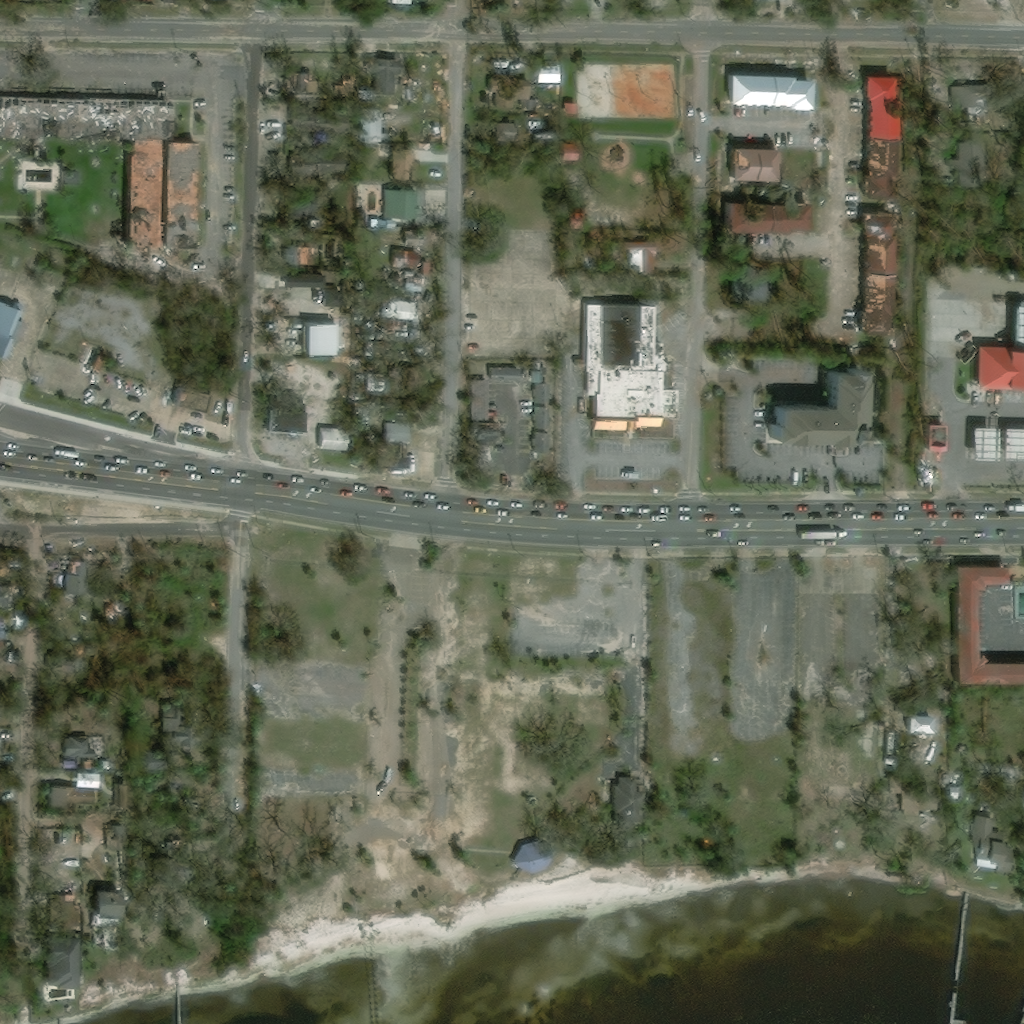major_damage: (0, 97, 173, 140)
minor_damage: (574, 304, 678, 429), (859, 209, 898, 337), (865, 74, 900, 198), (161, 136, 198, 247), (124, 138, 162, 246), (154, 380, 211, 415), (731, 145, 787, 177), (265, 401, 307, 435), (57, 559, 87, 595), (386, 296, 417, 320), (81, 345, 102, 371), (286, 247, 312, 264), (0, 584, 11, 607), (406, 251, 417, 268)
no_damage: (766, 359, 872, 446), (954, 565, 1023, 682), (727, 73, 814, 110), (730, 201, 811, 234), (973, 342, 1023, 389), (974, 817, 1013, 874), (374, 412, 411, 471), (488, 80, 537, 120), (510, 833, 557, 873), (971, 424, 1023, 460), (892, 776, 936, 814), (384, 187, 425, 226), (611, 776, 644, 824), (47, 936, 78, 987), (948, 84, 988, 122), (0, 301, 25, 358), (49, 787, 102, 812), (365, 59, 401, 94), (303, 323, 338, 357), (947, 142, 981, 173), (65, 738, 105, 763), (999, 303, 1023, 344), (318, 427, 350, 453), (881, 727, 897, 775), (405, 264, 430, 294), (622, 241, 669, 256), (295, 190, 320, 217), (924, 425, 947, 454), (470, 380, 487, 419), (360, 109, 381, 139), (93, 889, 123, 910), (390, 150, 413, 177), (908, 713, 937, 733), (290, 156, 321, 174), (287, 73, 314, 92), (492, 123, 517, 141), (288, 108, 314, 124), (487, 367, 518, 380), (321, 115, 347, 130), (76, 772, 100, 787), (181, 729, 200, 747), (533, 406, 548, 428), (68, 727, 100, 736), (534, 383, 548, 403), (534, 433, 548, 453), (530, 368, 548, 382), (404, 231, 418, 246), (948, 787, 961, 801), (387, 0, 413, 7), (564, 103, 576, 115), (383, 221, 395, 228)
unclassified: (445, 866, 491, 911), (0, 612, 27, 649)
